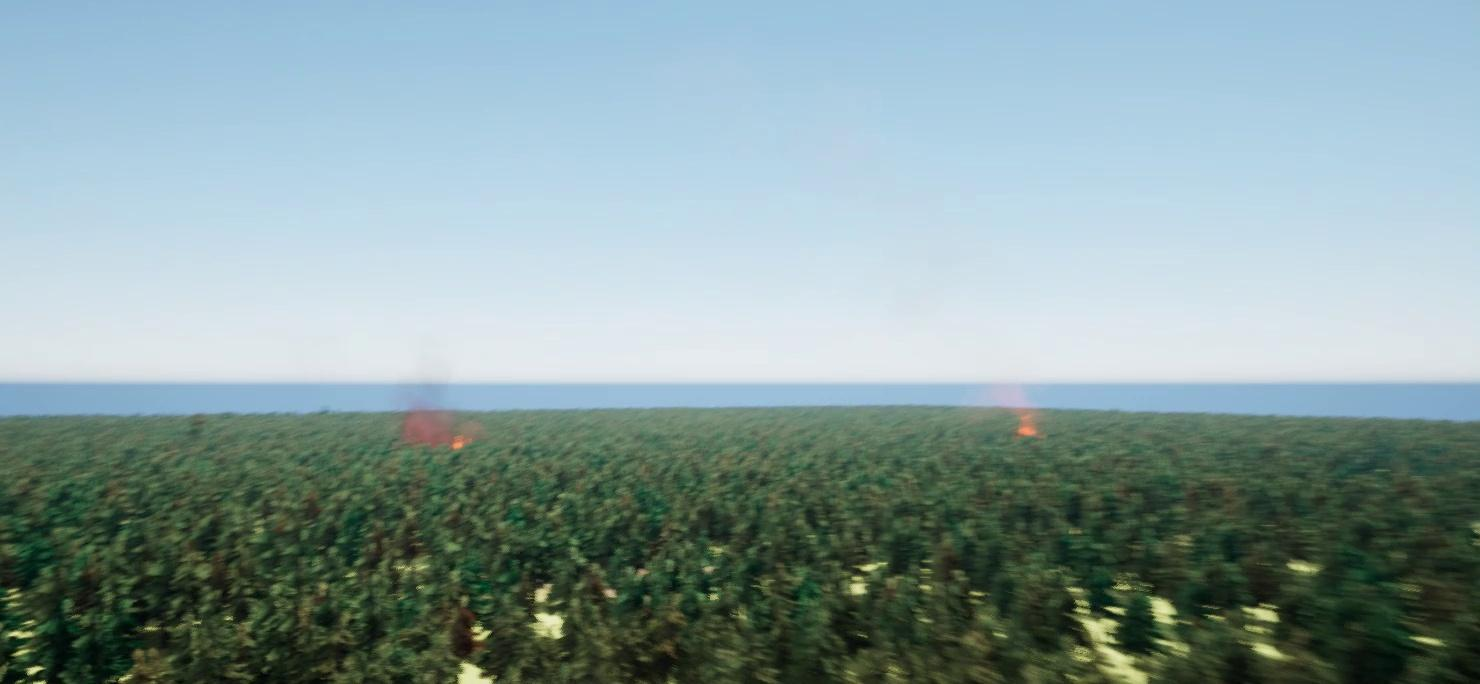smoke: (400, 382, 494, 450), (998, 386, 1051, 444)
